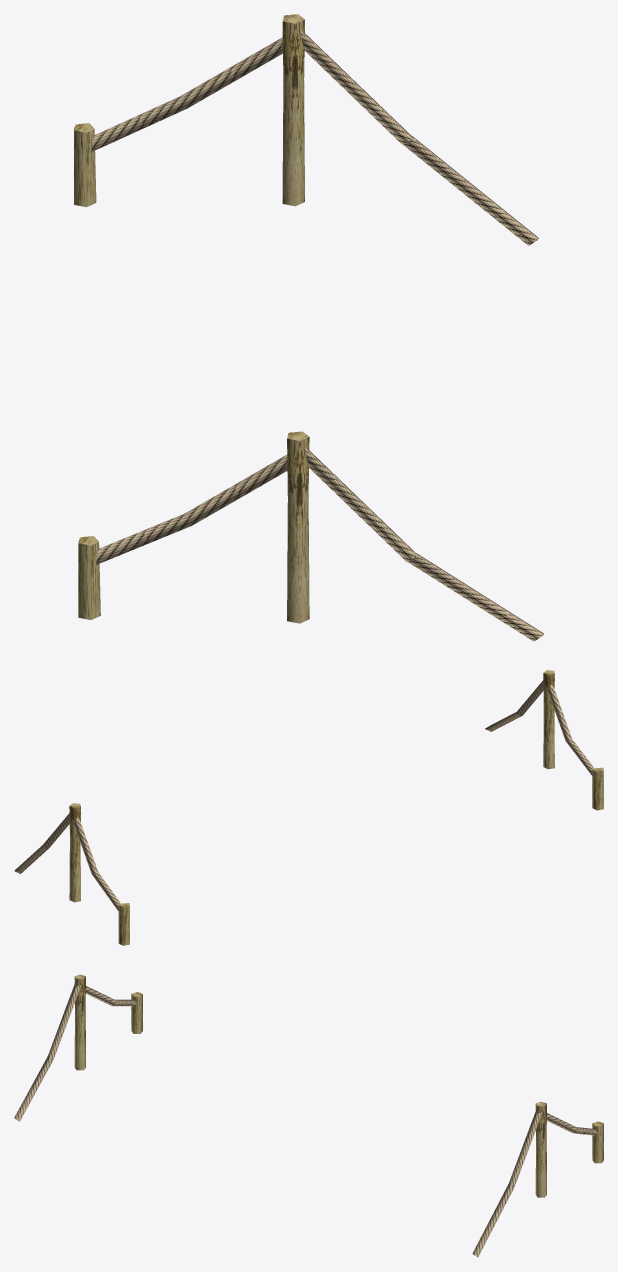
Rendered from track_chinese_env_woodensupports_03.FBX.
3 views of the same model, one above another, from view 1: azimuth 30°, elevation 25°; view 2: azimuth 150°, elevation 25°; view 3: azimuth 270°, elevation 25° (orthographic). The views are drawn at different scales.
Parts seen in each view (by area): view 1: track_chinese_env_woodensupports_03; view 2: track_chinese_env_woodensupports_03; view 3: track_chinese_env_woodensupports_03.
Boxes of the visible parts, x1=… form: track_chinese_env_woodensupports_03: x1=74, y1=14, x2=543, y2=641; track_chinese_env_woodensupports_03: x1=14, y1=670, x2=603, y2=945; track_chinese_env_woodensupports_03: x1=14, y1=974, x2=603, y2=1257.
Size of the model in its own units: 16.25 by 4.91 by 20.72.
